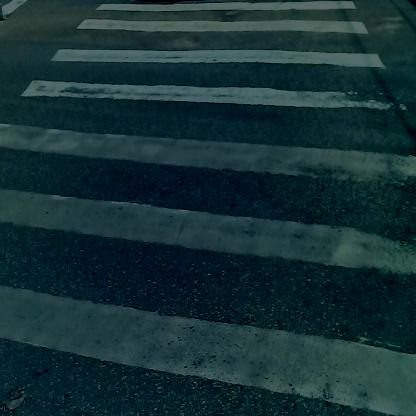crosswalk: (4, 8, 411, 416)
